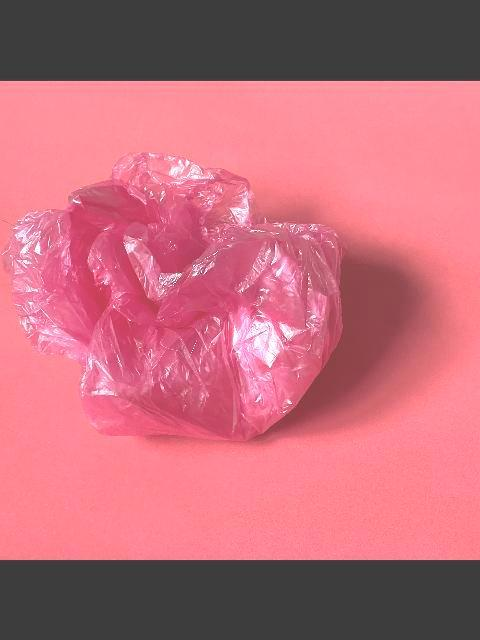plasticbag: (0, 150, 346, 442)
